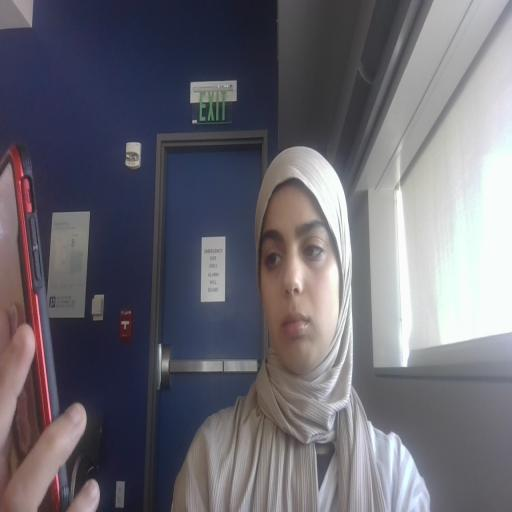phone: (0, 100, 113, 512)
